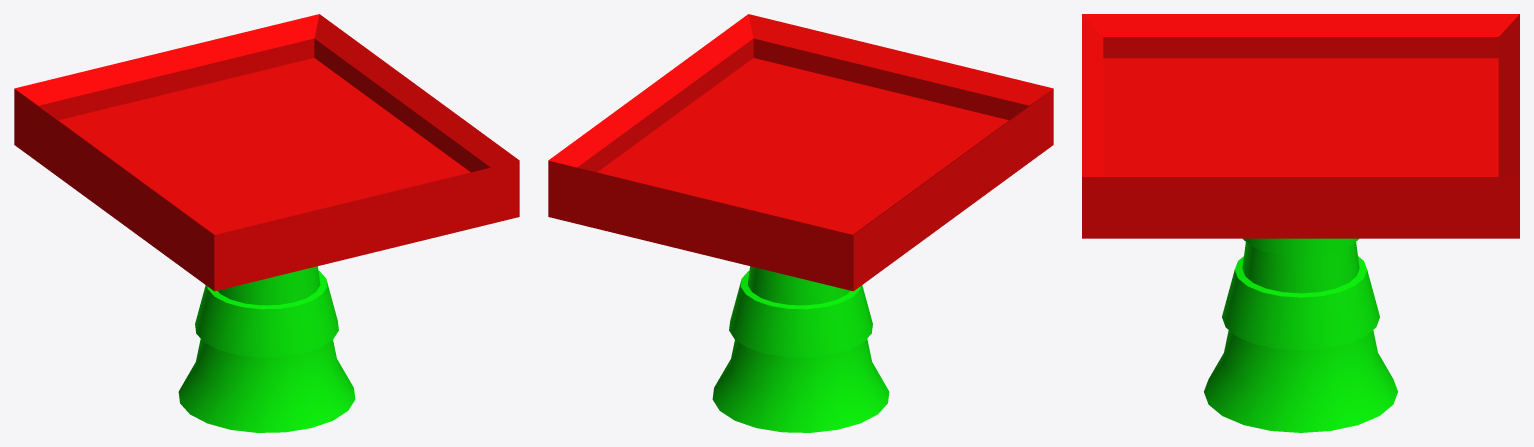
Rendered from Cohete.fbx.
The picture shows the model from 3 angles, left to right: view 1: azimuth 30°, elevation 25°; view 2: azimuth 150°, elevation 25°; view 3: azimuth 270°, elevation 25°; orthographic projection. The views are drawn at different scales.
Parts seen in each view (by area): view 1: pCube1, pCylinder1; view 2: pCube1, pCylinder1; view 3: pCube1, pCylinder1.
Boxes of the visible parts, x1,y1,x2,y2 form: pCube1: [14, 14, 519, 291]; pCylinder1: [178, 266, 355, 432]; pCube1: [548, 14, 1053, 291]; pCylinder1: [712, 266, 889, 432]; pCube1: [1082, 14, 1519, 238]; pCylinder1: [1204, 238, 1397, 432].
Bounding box in the file's own units: 7.58 × 6.43 × 8.6.
